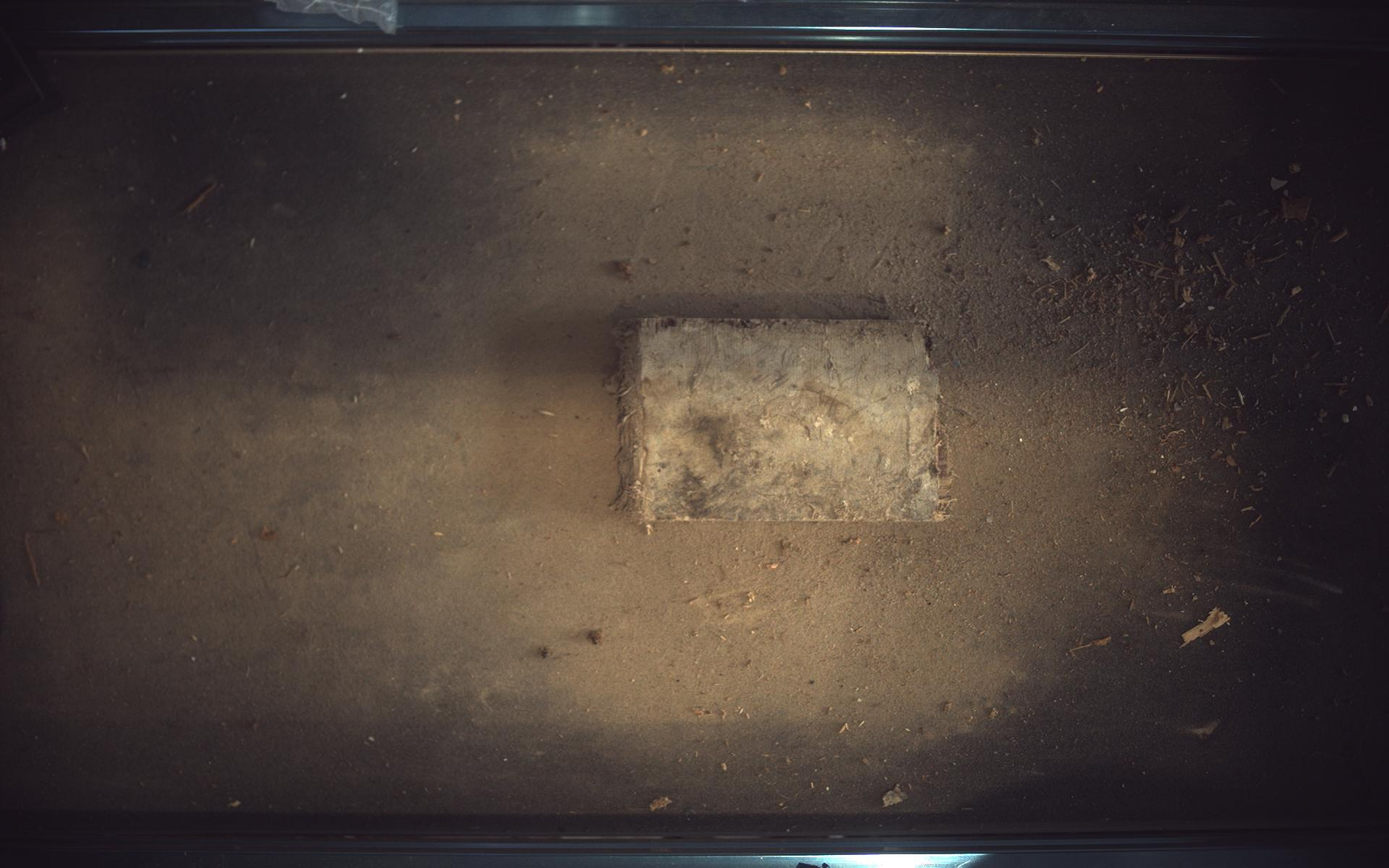wood: (619, 317, 953, 524)
